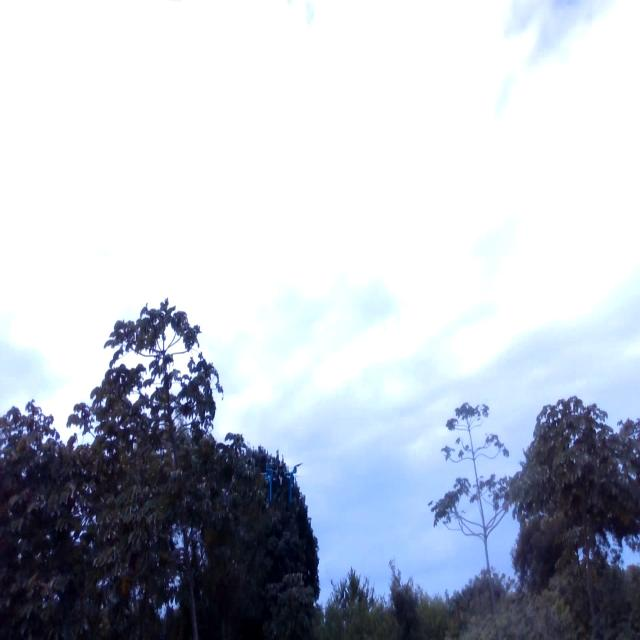-uav-: (252, 444, 309, 508)
